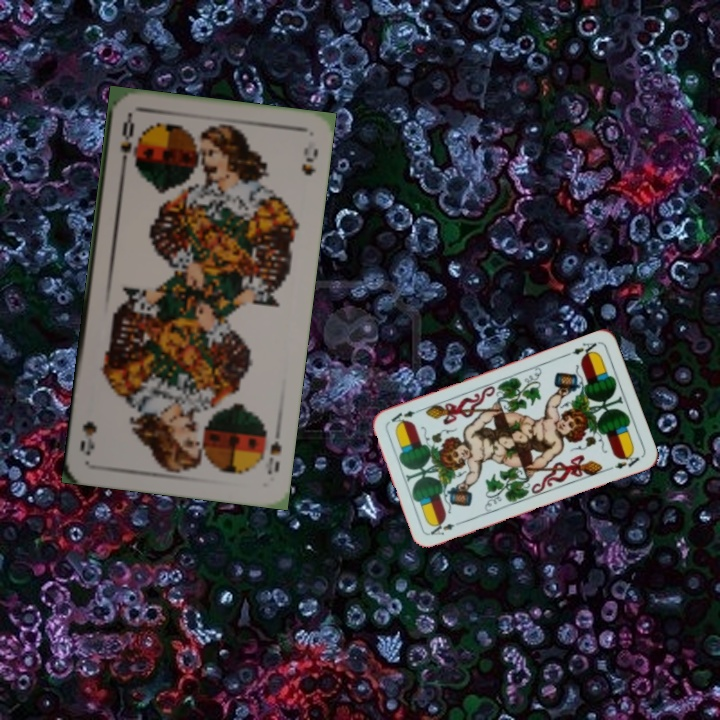EA: (562, 338, 601, 360), (426, 517, 466, 538)
SO: (116, 112, 137, 172), (263, 423, 284, 477)
